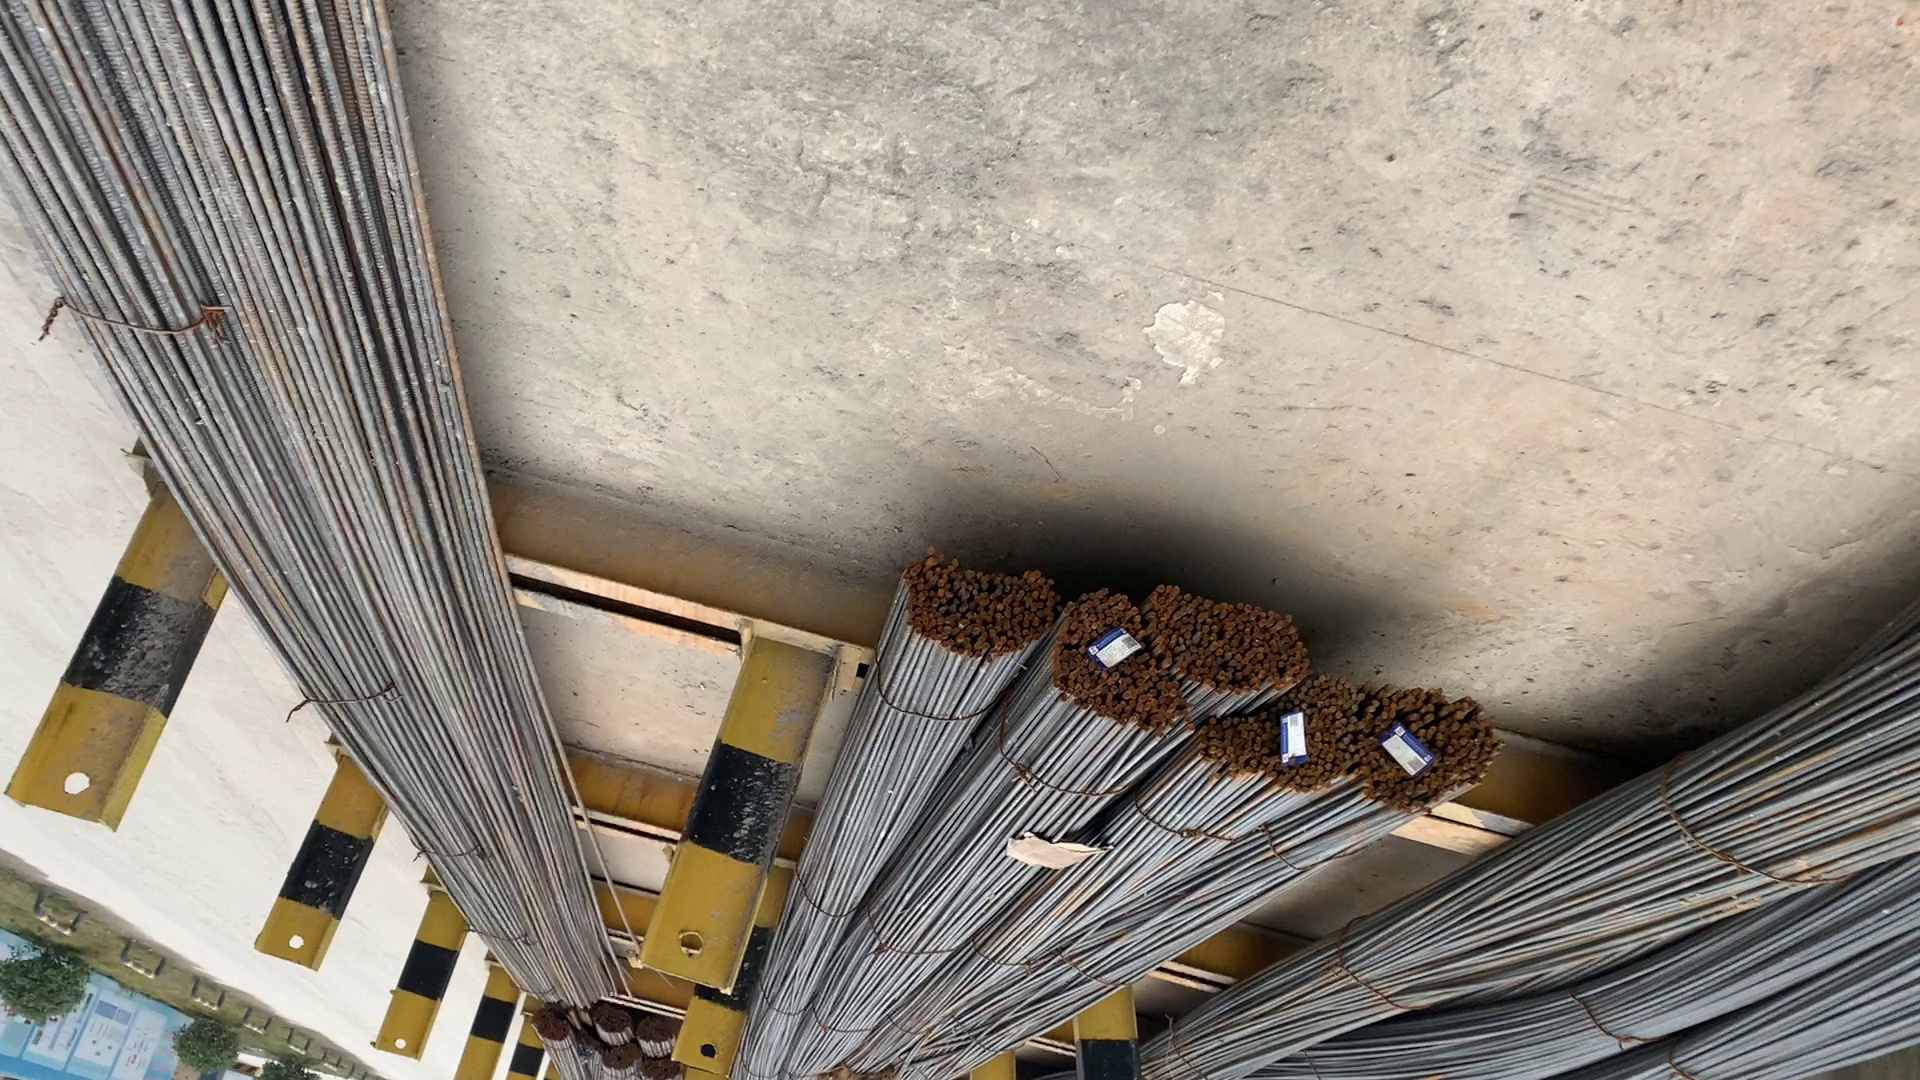rebar: (903, 556, 1048, 659), (1207, 684, 1354, 785), (1058, 589, 1164, 727), (1160, 595, 1309, 691), (1360, 696, 1495, 799)
